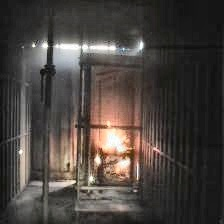fire: (104, 118, 131, 155)
